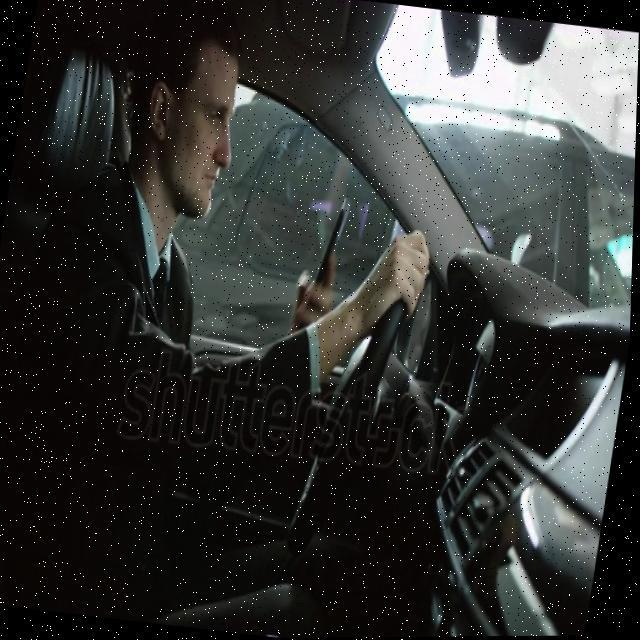PhoneCall: (292, 194, 352, 328)
